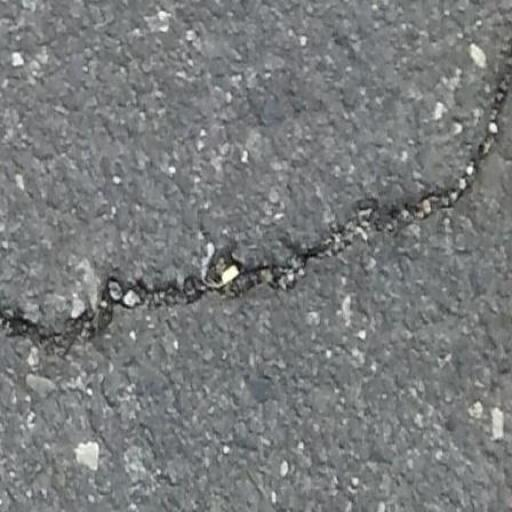spalling: (3, 53, 512, 361)
